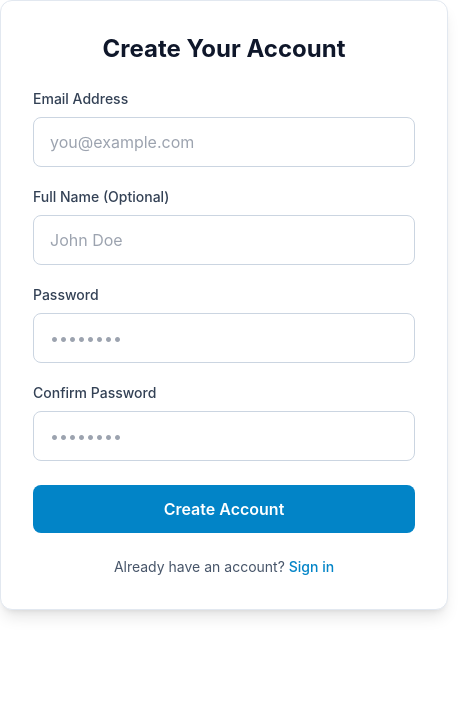
RegisterForm Component › Error Handling › should handle network error
The width and height of the screenshot is (465, 720).
Type "test@example.com" into the field labelled "Email Address" at (224, 142), box [33,117,415,167]
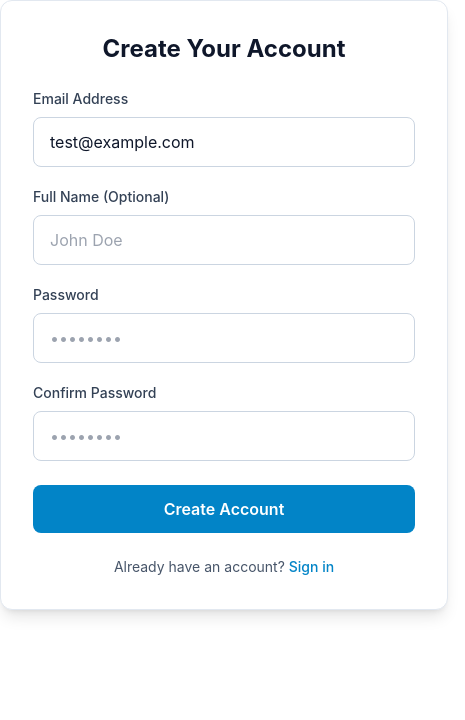
Type "password123" into the password field labelled "Password" at (224, 338), box [33,313,415,363]
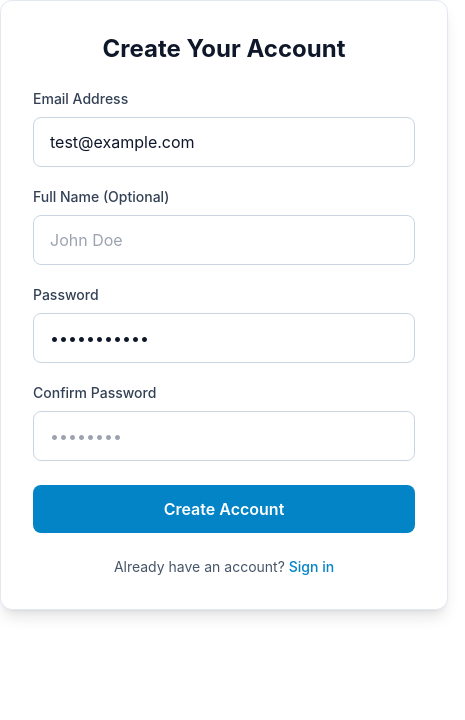
Type "password123" into the password field labelled "Confirm Password" at (224, 436), box [33,411,415,461]
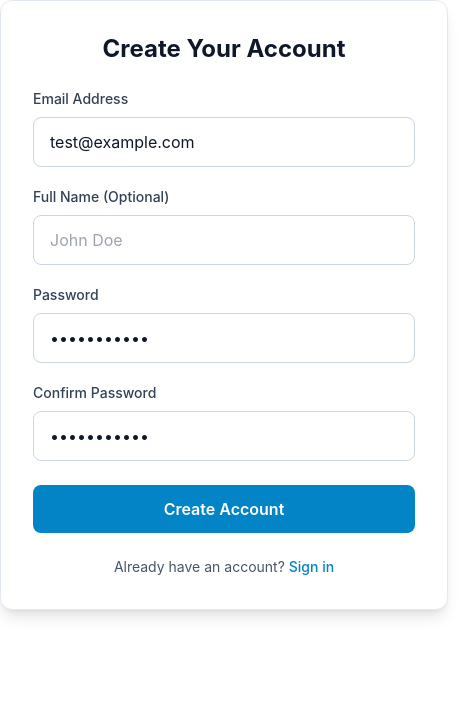
Click the button "Create Account" at (224, 509), box [33,485,415,533]
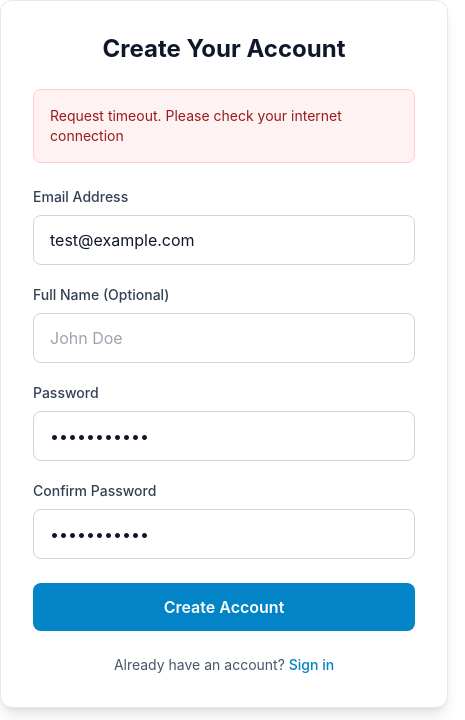
Now the text "Request timeout. Please check your internet connection" is shown, box [50,107,342,144]
